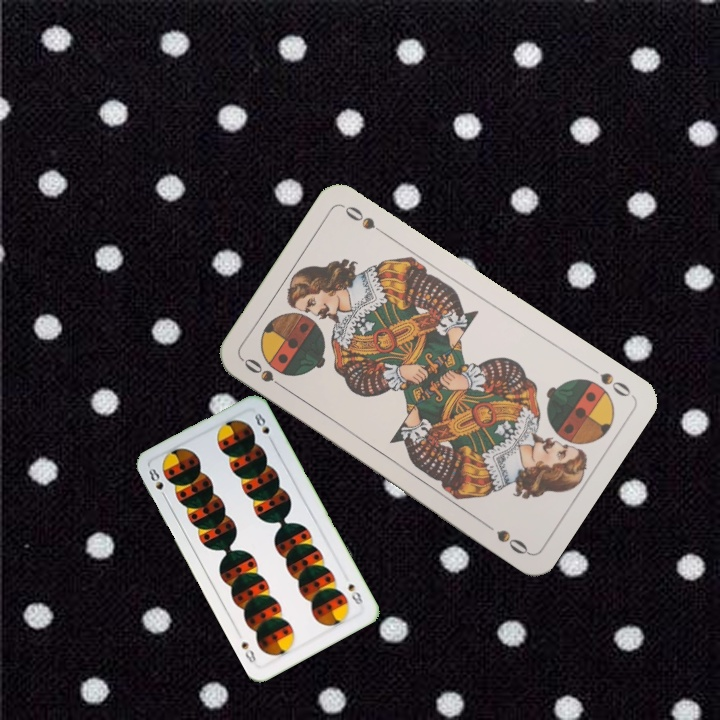S8: (145, 464, 170, 503), (344, 579, 366, 607)
SO: (239, 354, 291, 394), (583, 360, 634, 400)
